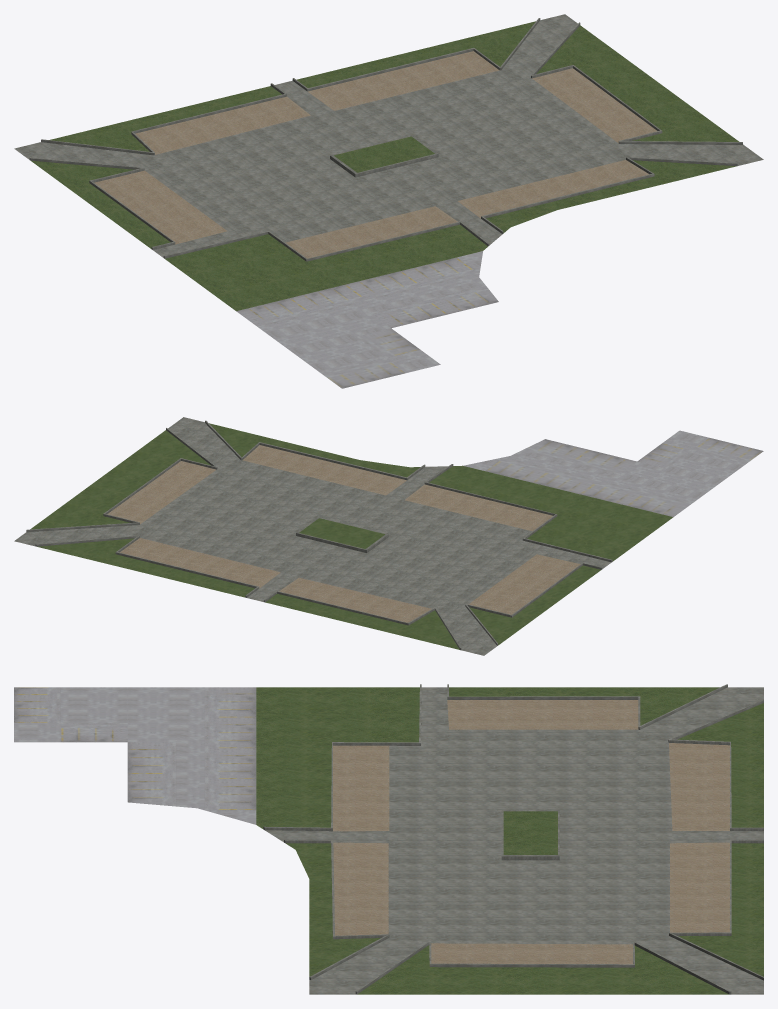
The model's file is sw_apartmentsbase.obj.
3 renders of one model, top to bottom at view 1: azimuth 30°, elevation 25°; view 2: azimuth 150°, elevation 25°; view 3: azimuth 270°, elevation 25°, orthographic. The views are drawn at different scales.
Parts seen in each view (by area): view 1: sw_apartmentsBase; view 2: sw_apartmentsBase; view 3: sw_apartmentsBase.
Boxes of the visible parts, x1,y1,x2,y2 form: sw_apartmentsBase: (14,14,763,388); sw_apartmentsBase: (14,417,763,655); sw_apartmentsBase: (14,684,763,994).
Bounding box in the file's own units: 80 × 0.4865 × 82.5.
5 materials, 5 textured.
